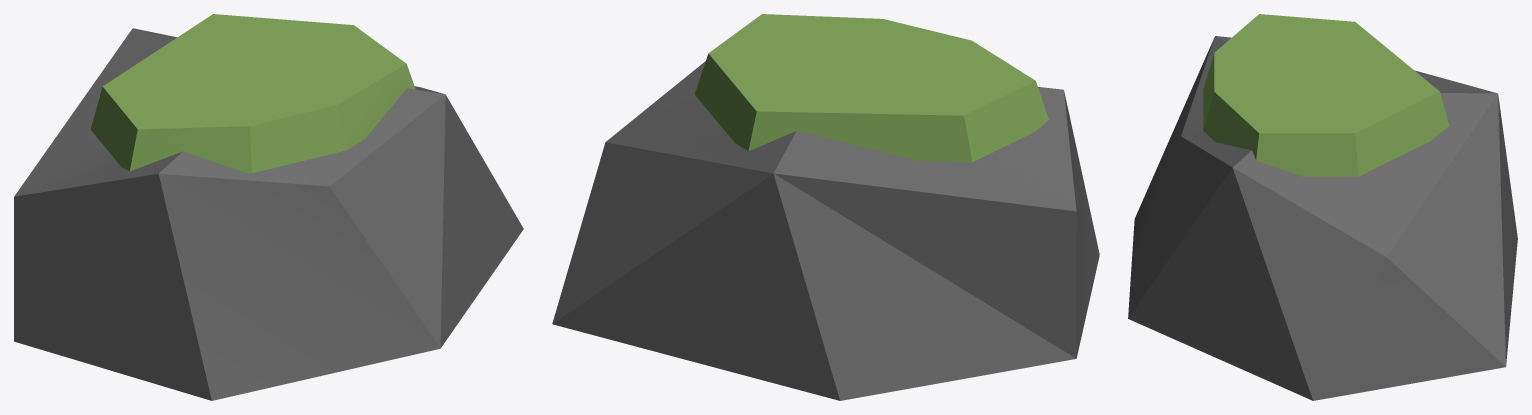
File: Rock_Small_Moss_01.fbx
3 views of the same model, side by side, from view 1: azimuth 30°, elevation 25°; view 2: azimuth 150°, elevation 25°; view 3: azimuth 270°, elevation 25° (orthographic). The views are drawn at different scales.
Visible parts, largest first — view 1: Rock_Small_Moss_01; view 2: Rock_Small_Moss_01; view 3: Rock_Small_Moss_01.
Part boxes in pixels (<box>): Rock_Small_Moss_01: <box>14,14,523,400</box>; Rock_Small_Moss_01: <box>552,14,1099,400</box>; Rock_Small_Moss_01: <box>1128,14,1517,400</box>.
Bounding box in the file's own units: 45.71 × 24.43 × 34.11.
